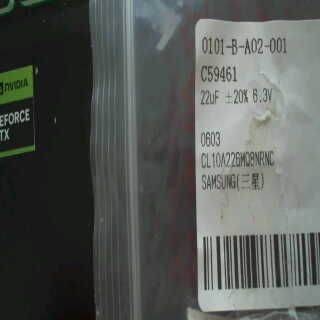22uF: (195, 87, 223, 105)
